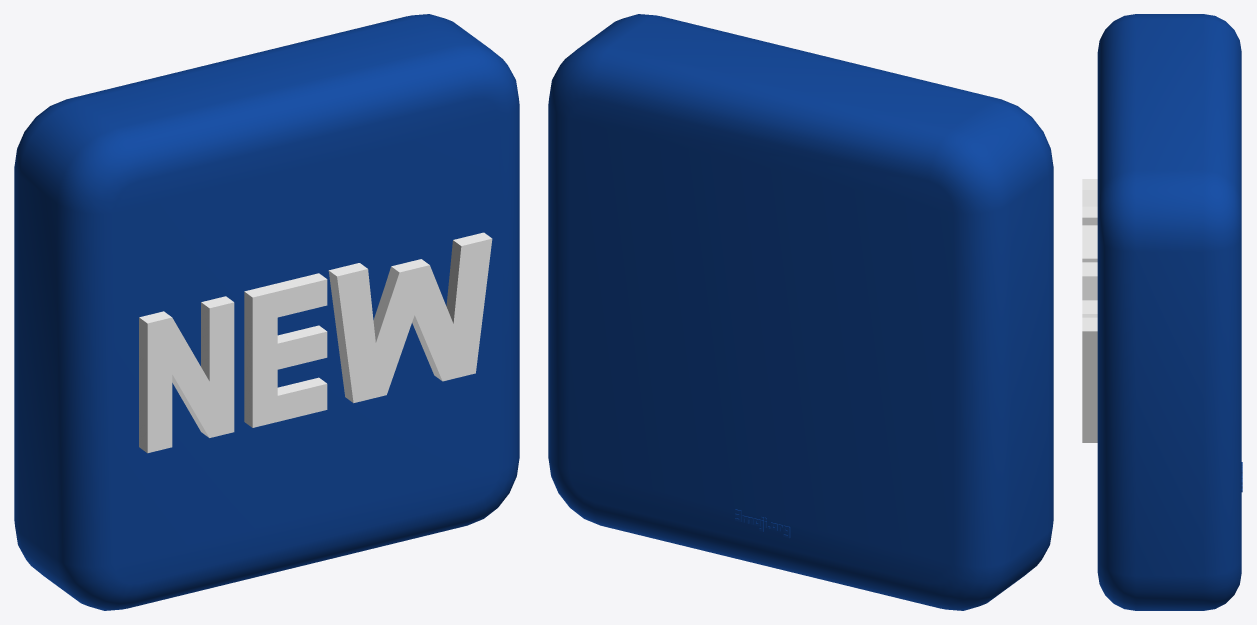
File: new_button.fbx
3 renders of one model, left to right at view 1: azimuth 30°, elevation 25°; view 2: azimuth 150°, elevation 25°; view 3: azimuth 270°, elevation 25°, orthographic. The views are drawn at different scales.
Parts seen in each view (by area): view 1: Cube.6639; view 2: Cube.6639; view 3: Cube.6639.
Part boxes in pixels (bbox=[...]): Cube.6639: bbox=[14, 14, 519, 610]; Cube.6639: bbox=[548, 14, 1053, 610]; Cube.6639: bbox=[1082, 14, 1242, 610].
Size of the model in its own units: 220 by 220 by 73.37.
1 material, 1 textured.
